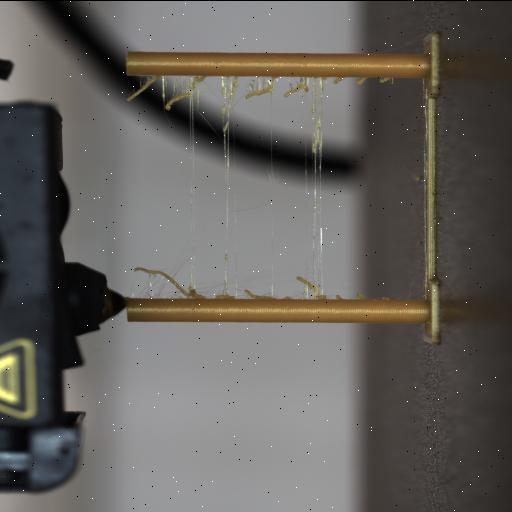stringing: (130, 265, 224, 299), (126, 75, 160, 101), (164, 87, 194, 109), (295, 275, 322, 296), (226, 200, 266, 212), (244, 288, 272, 298), (332, 75, 346, 83), (356, 76, 368, 84), (379, 76, 392, 82), (356, 292, 368, 298)
